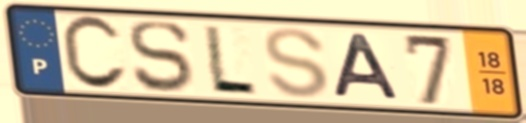7: (400, 31, 457, 108)
A: (331, 31, 405, 103)
C: (58, 13, 131, 93)
L: (201, 22, 261, 98)
S: (260, 25, 332, 101), (126, 19, 195, 95)
